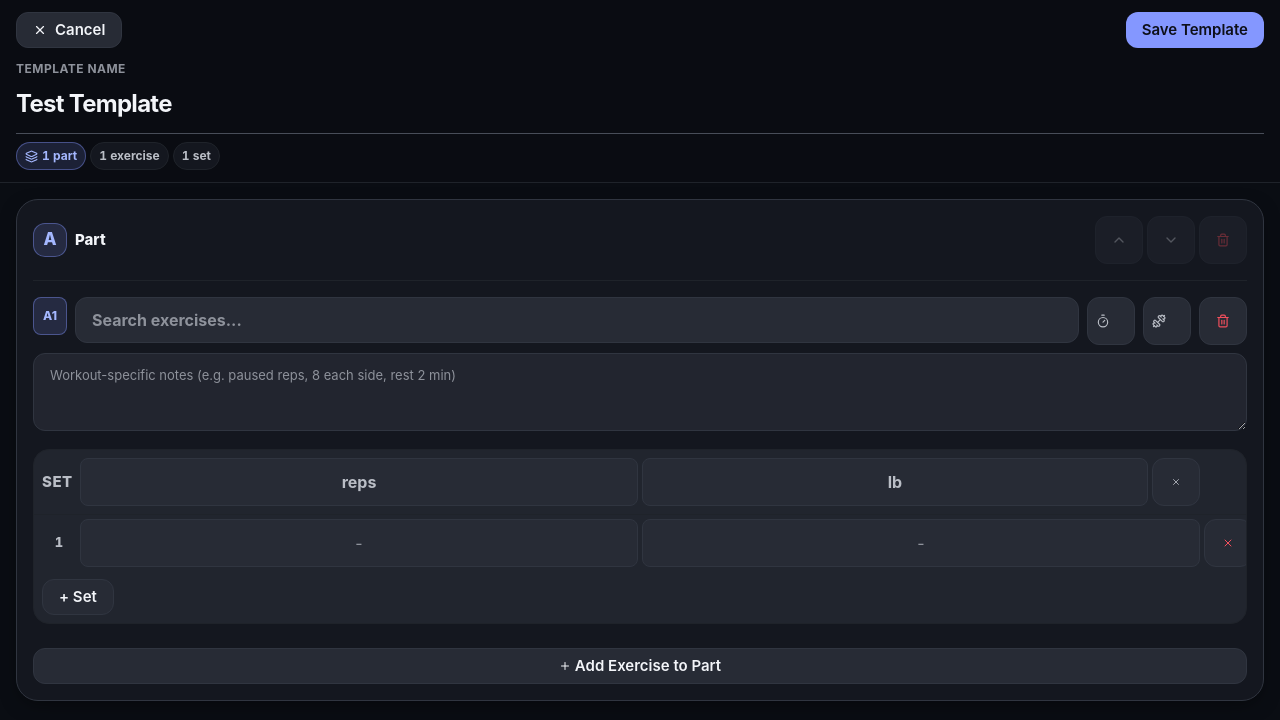
Scenario: TemplateEditorView deferred exercise-title commit › still commits immediately when an exercise is selected from the dropdown
Type "Back" into the field with placeholder "Search exercises..." at x=577, y=320, box 75,297 -> 1079,343
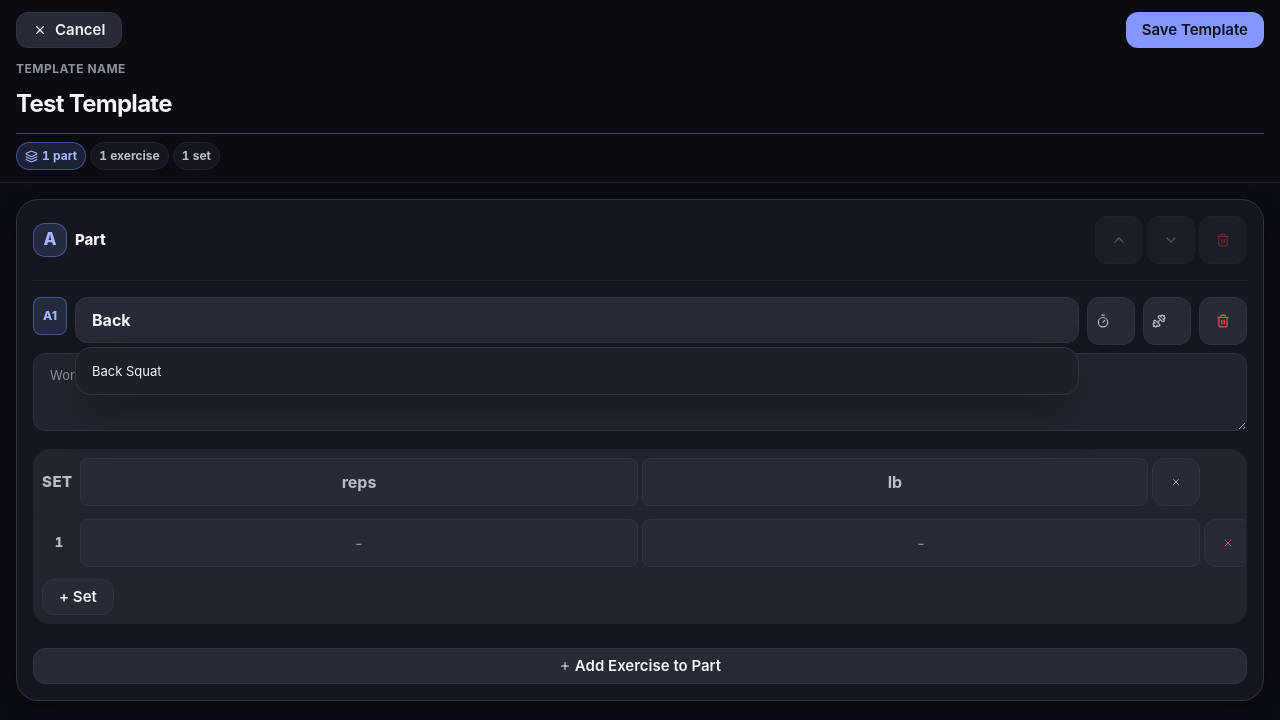
Press the mouse on the button "Back Squat" at x=127, y=371, box 76,348 -> 1078,394
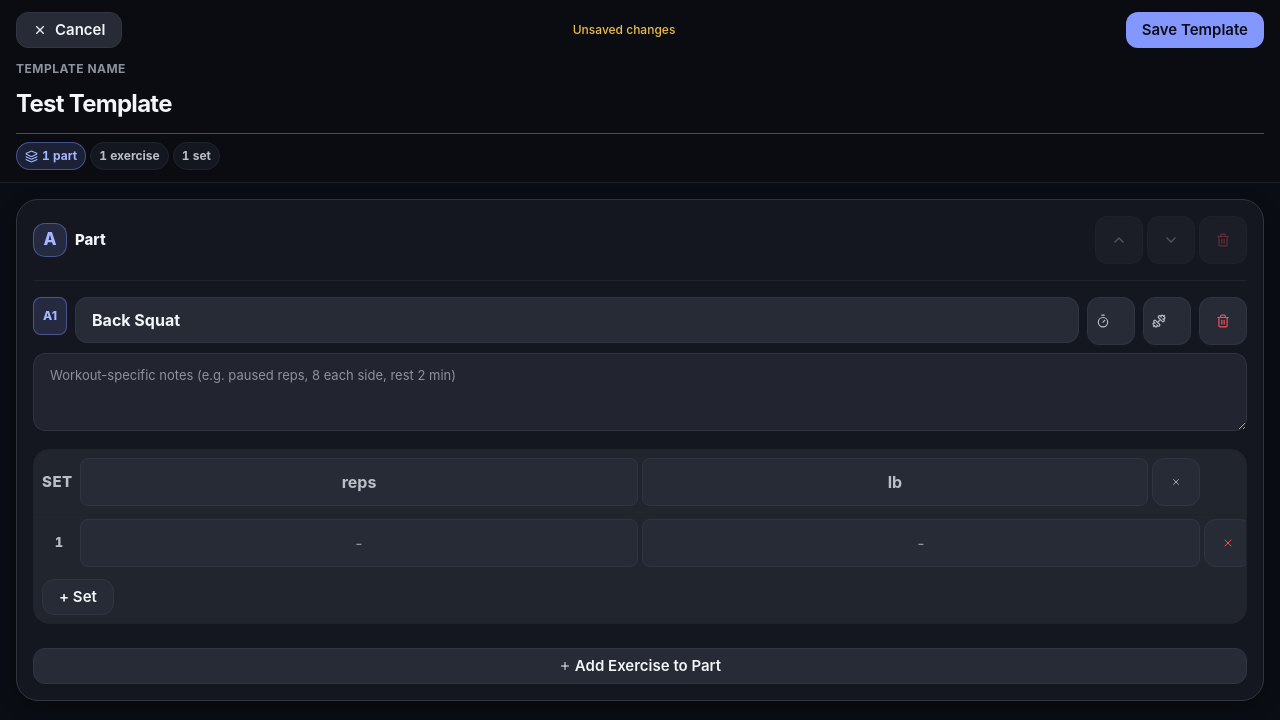
Result: the field showing "Back Squat" is shown at 75,297 -> 1079,343
